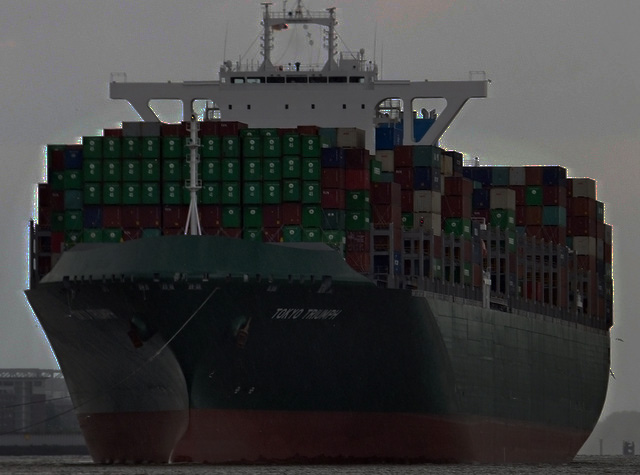container_ship: (22, 2, 620, 467)
